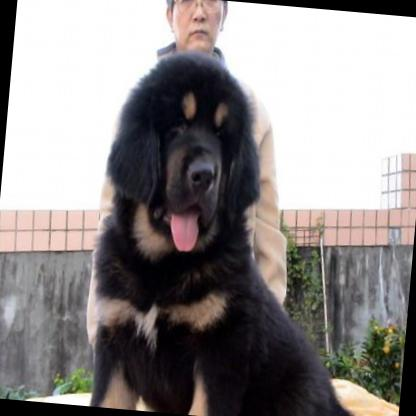Tibetan_mastiff: (78, 48, 395, 416)
